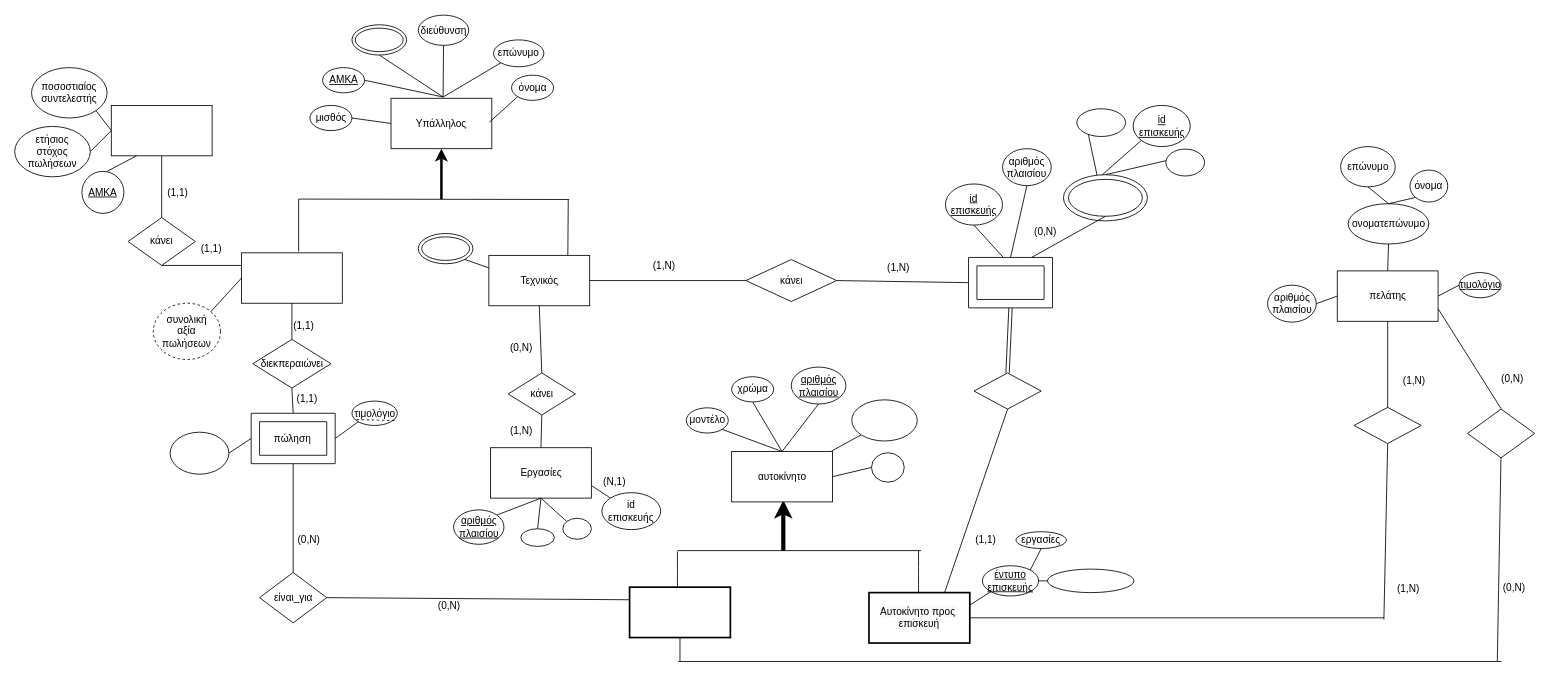
The diagram is 1550 pixels wide and 677 high, and some of its shapes have lost their labels. Here are the shapes that lost their labels. From the top down, the centre of each, then its label:
[379,39]: τηλέφωνο
[161,130]: Συμφωνία
[1101,122]: ποσότητα
[1185,162]: είδος
[1105,197]: ανταλλακτικά
[445,248]: ειδικότητα
[291,277]: Πωλητής
[1010,282]: επισκευή
[1007,390]: χρεάζεται
[884,420]: έτος κατασκευής
[1387,425]: έχει
[1501,433]: αγοράζει
[199,452]: αξία
[887,467]: μάρκα
[537,537]: από
[576,528]: εώς
[1090,580]: ημερομηνία παραλαβής
[679,612]: Αυτοκίνητο προς πώληση
